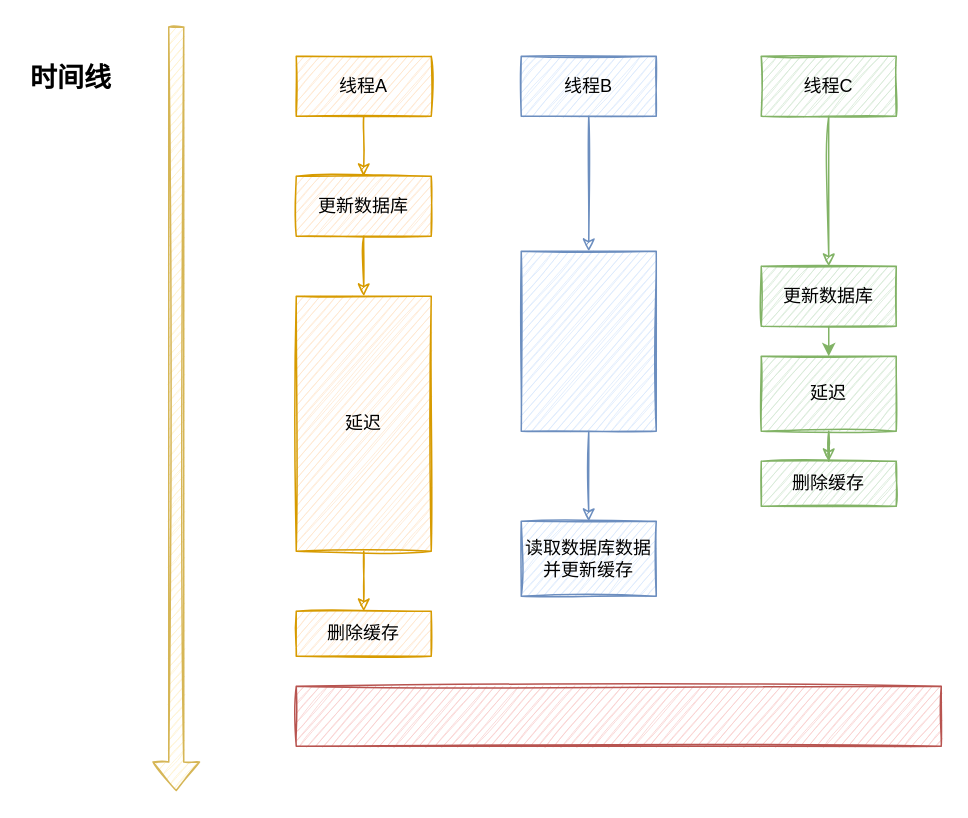
Some shapes in this 968 by 818 pixel diagram are drawn without their labels. The shapes that lost their labels are listed below. From the top down, each one's centre as x and y in pixels, then its label:
At point 588,340: "读取旧数据".
At point 618,715: "线程B长时间读取旧数据".
